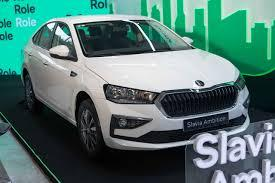skoda: (193, 75, 205, 87)
